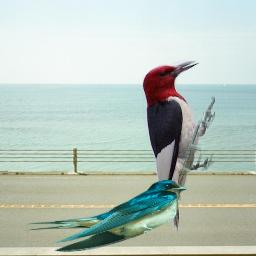Swallow: (23, 179, 187, 253)
Woodpecker: (142, 60, 215, 234)
